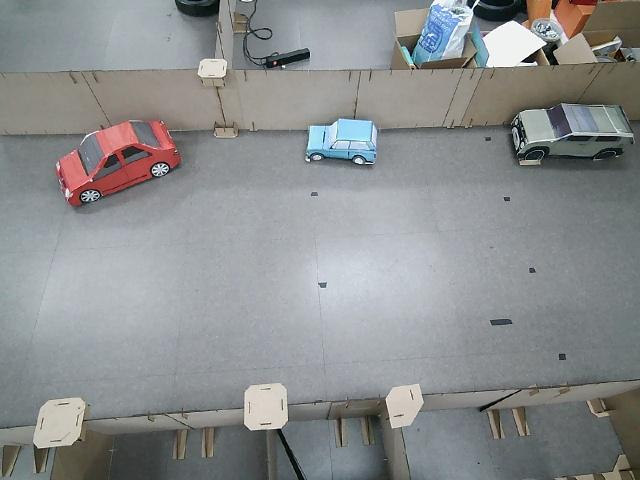car: (47, 118, 192, 214), (505, 101, 640, 181), (296, 111, 393, 171)
